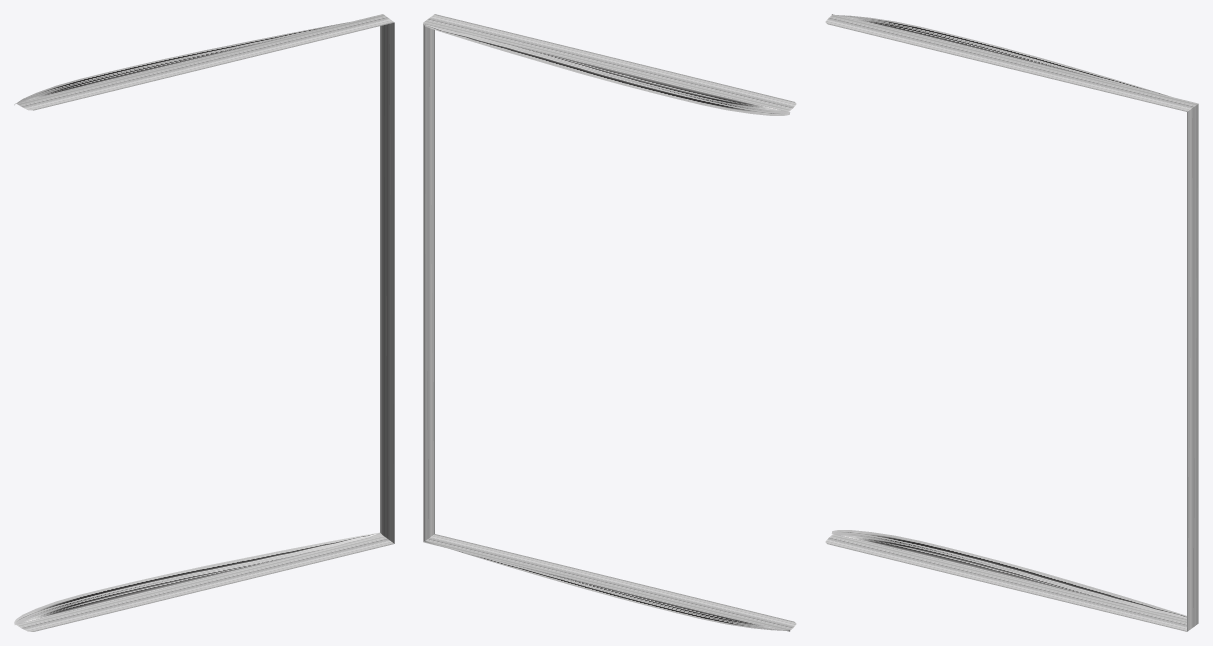
Rendered from MeshBookFront_13_1_GeomSubset_1.obj.
3 renders of one model, left to right at view 1: azimuth 30°, elevation 25°; view 2: azimuth 150°, elevation 25°; view 3: azimuth 330°, elevation 25°, orthographic.
Visible parts, largest first — view 1: MeshBookFront_13_1_GeomSubset_1; view 2: MeshBookFront_13_1_GeomSubset_1; view 3: MeshBookFront_13_1_GeomSubset_1.
Part boxes in pixels (x1,y1,x2,y2): MeshBookFront_13_1_GeomSubset_1: [14, 14, 394, 631]; MeshBookFront_13_1_GeomSubset_1: [423, 14, 796, 631]; MeshBookFront_13_1_GeomSubset_1: [825, 14, 1198, 631].
Bounding box in the file's own units: 0.2068 × 0.2799 × 0.0232.
